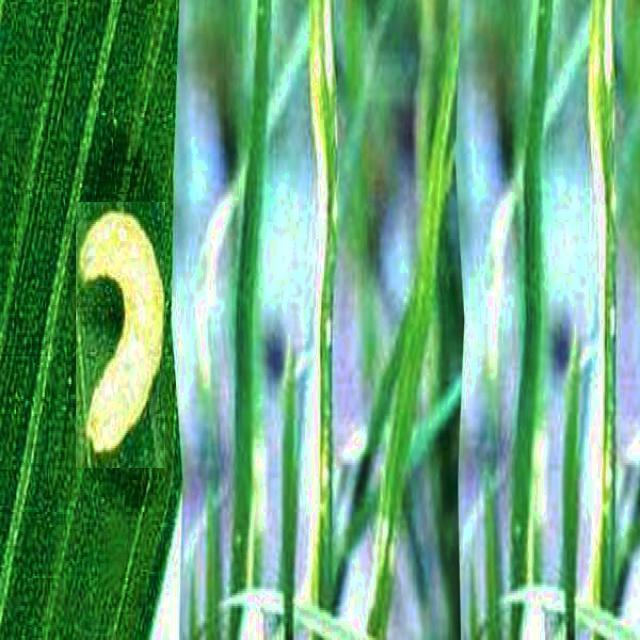whorl-maggot: (76, 202, 165, 468)
